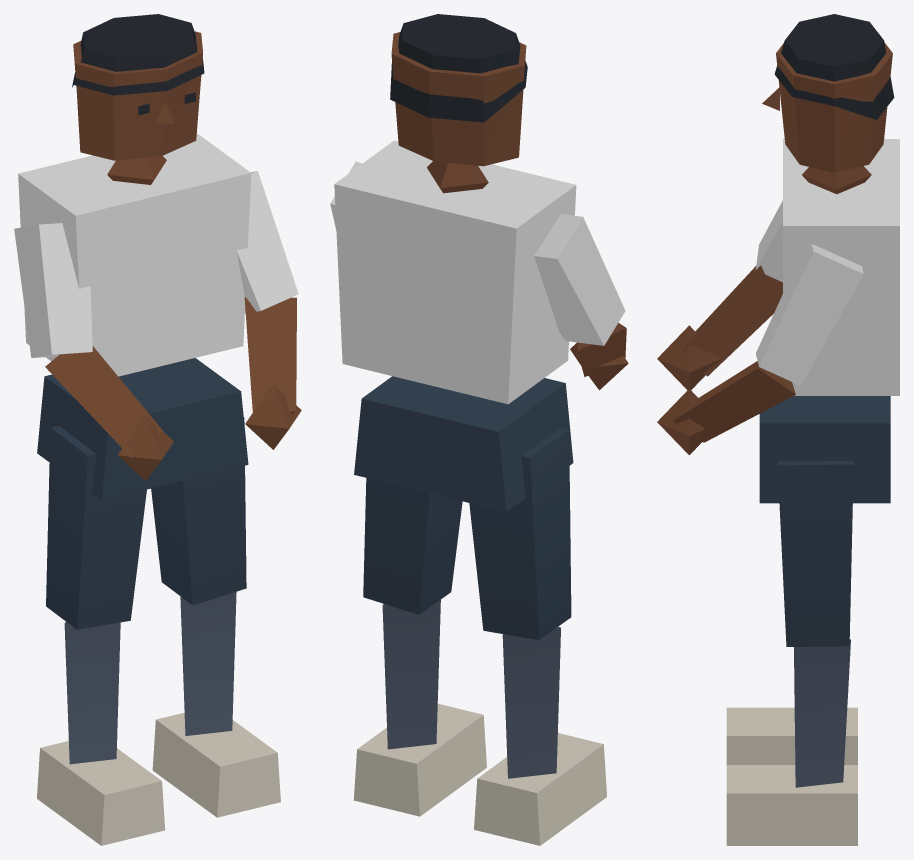
The model's file is fan-07.glb.
The picture shows the model from 3 angles, left to right: view 1: azimuth 30°, elevation 25°; view 2: azimuth 150°, elevation 25°; view 3: azimuth 270°, elevation 25°; orthographic projection. The views are drawn at different scales.
Parts seen in each view (by area): view 1: fan-07; view 2: fan-07; view 3: fan-07.
Boxes of the visible parts, x1=… form: fan-07: x1=14, y1=14, x2=301, y2=845; fan-07: x1=330, y1=14, x2=628, y2=845; fan-07: x1=657, y1=14, x2=899, y2=845.
Size of the model in its own units: 0.6286 by 1.79 by 0.519.
